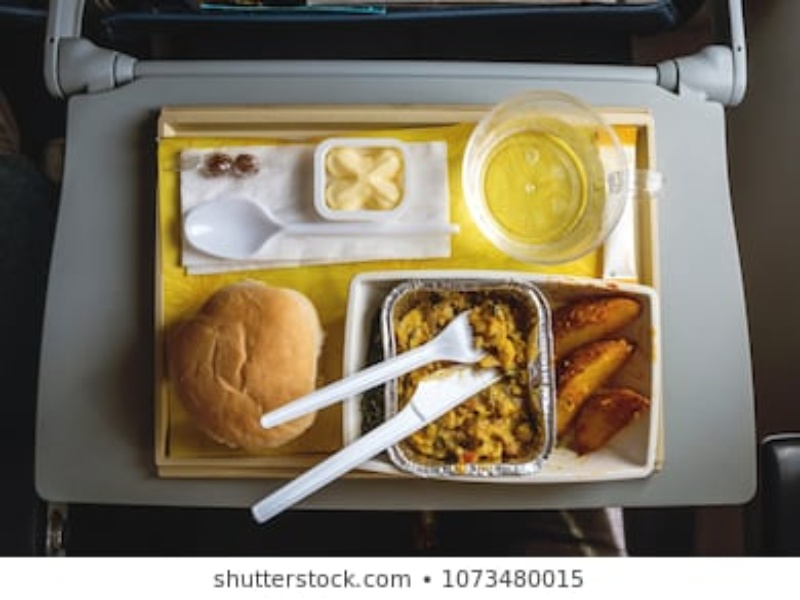plastic-silverware: (246, 358, 522, 524), (251, 301, 493, 426), (180, 191, 466, 263)
